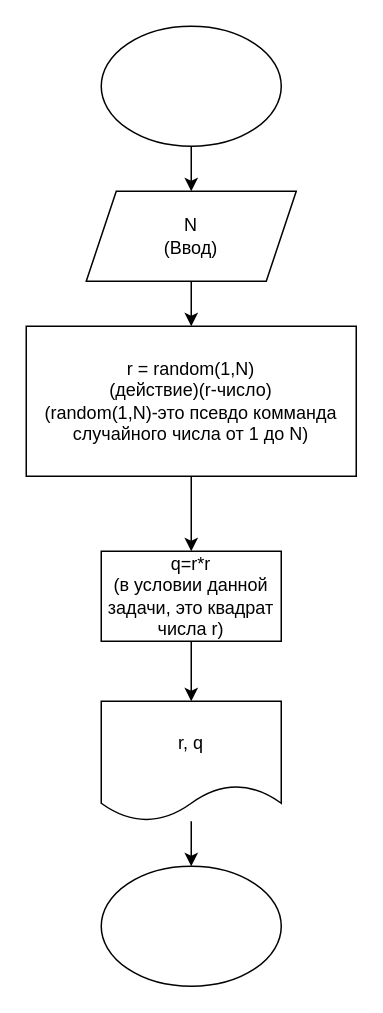
This 383x1013 diagram has some shape labels left out. Here are the shapes that lost their labels. From the top down, the centre of each, then its label:
(x=190, y=85): Start
(x=190, y=925): Finish
